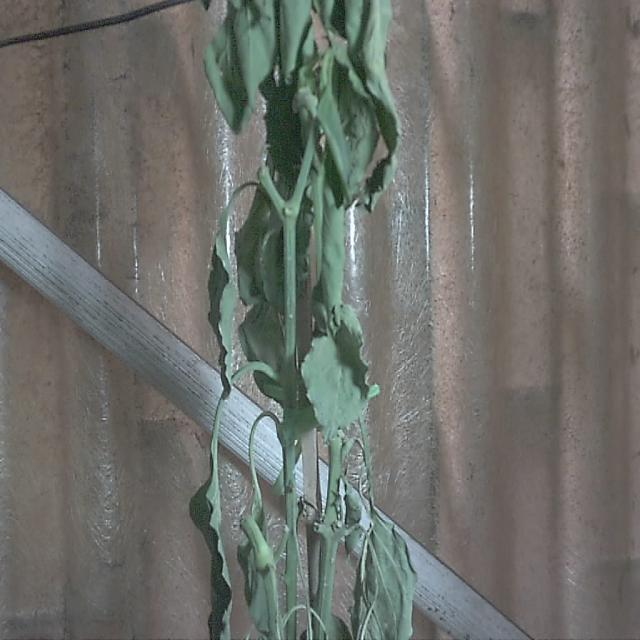Leaf: (303, 313, 375, 442), (353, 509, 414, 640), (188, 465, 232, 640), (205, 205, 238, 400)
